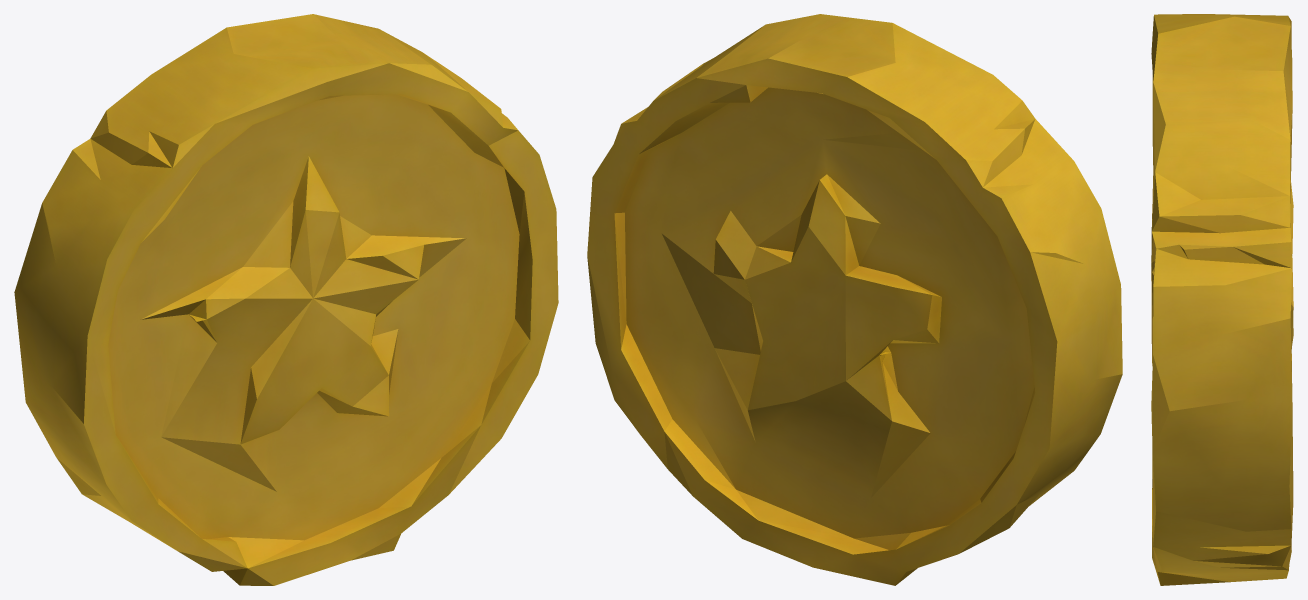
Rendered from coin.glb.
3 renders of one model, left to right at view 1: azimuth 30°, elevation 25°; view 2: azimuth 150°, elevation 25°; view 3: azimuth 270°, elevation 25°, orthographic. The views are drawn at different scales.
Parts seen in each view (by area): view 1: Mesh; view 2: Mesh; view 3: Mesh.
Part boxes in pixels (x1,y1,x2,y2): Mesh: (14,14,558,585); Mesh: (587,14,1122,585); Mesh: (1151,14,1293,585).
Size of the model in its own units: 1.89 by 1.89 by 0.4744.
1 material, 1 textured.
